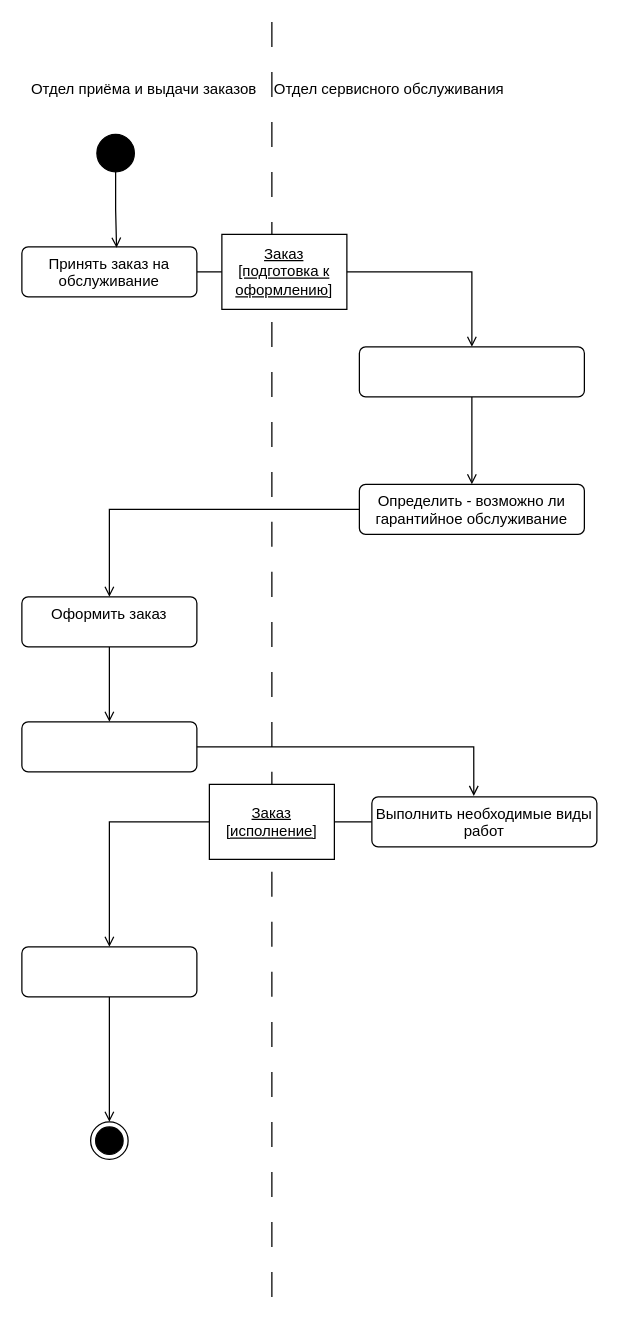
The diagram is 619 pixels wide and 1344 high, and some of its shapes have lost their labels. Here are the shapes that lost their labels. From the top down, the centre of each, then its label:
At point 471,371: "Определить необходимые виды работ".
At point 109,746: "Принять оплату".
At point 109,971: "Выдать готовый заказ".
